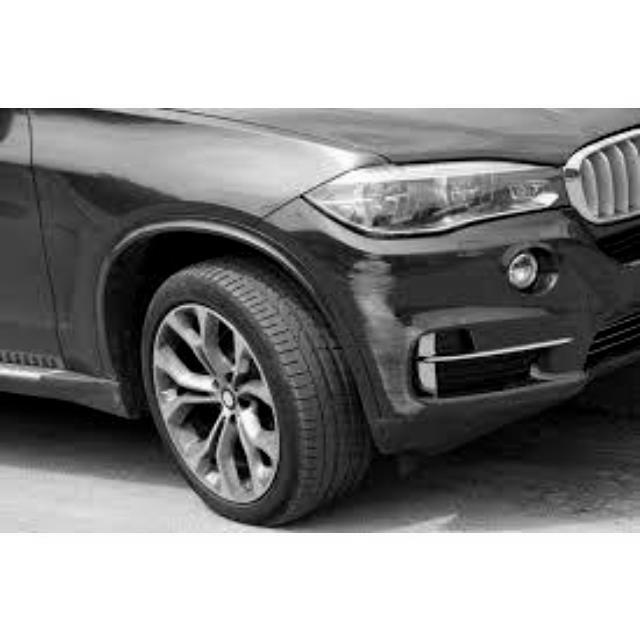front-bumper-dent: (293, 186, 637, 474)
